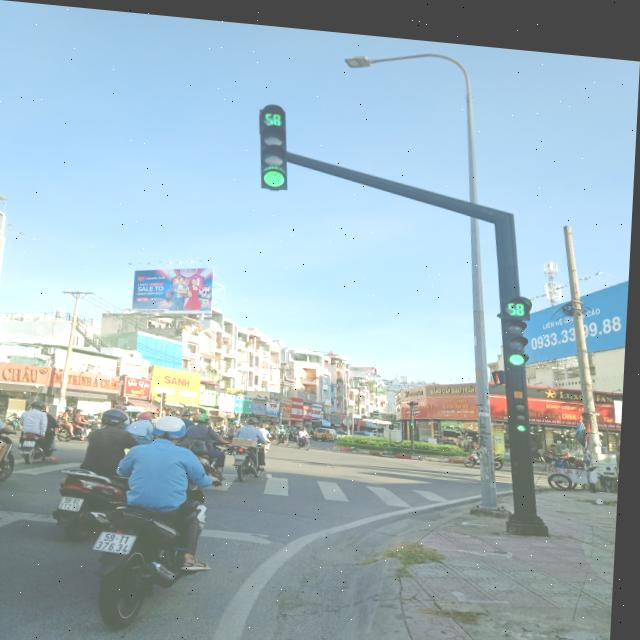Green: (250, 119, 302, 189), (496, 306, 541, 357), (509, 377, 543, 425)
